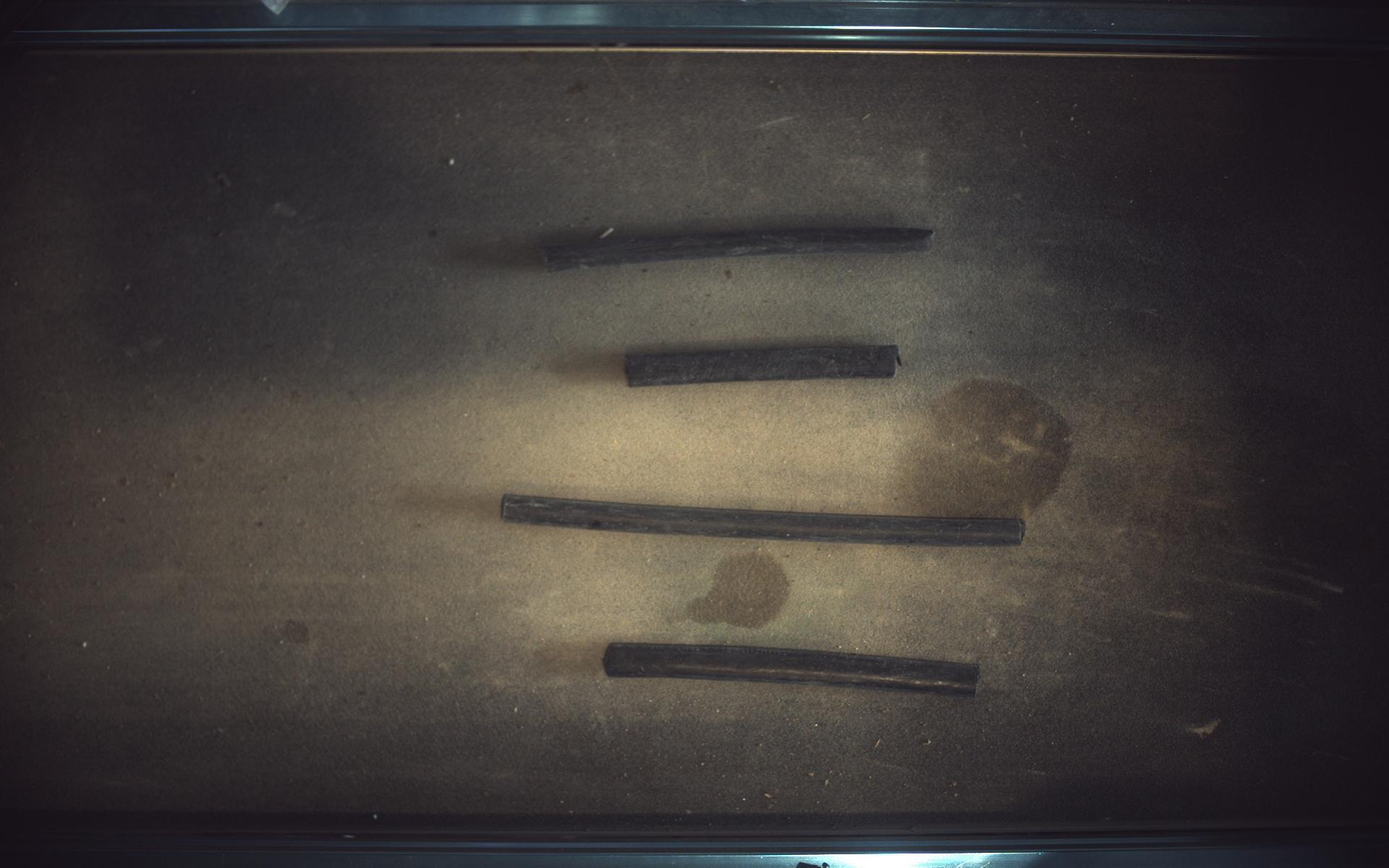pipes: (501, 494, 1027, 547), (604, 644, 981, 697), (543, 226, 935, 271), (626, 345, 902, 387)
